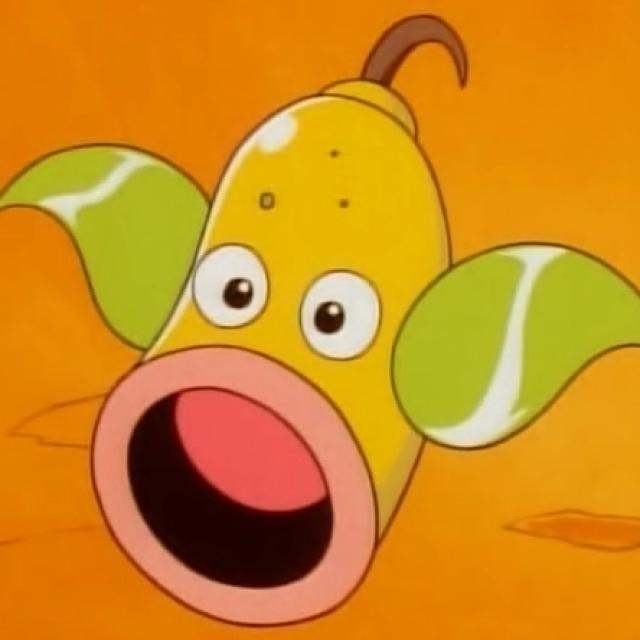Weepinbell: (94, 13, 480, 623)
